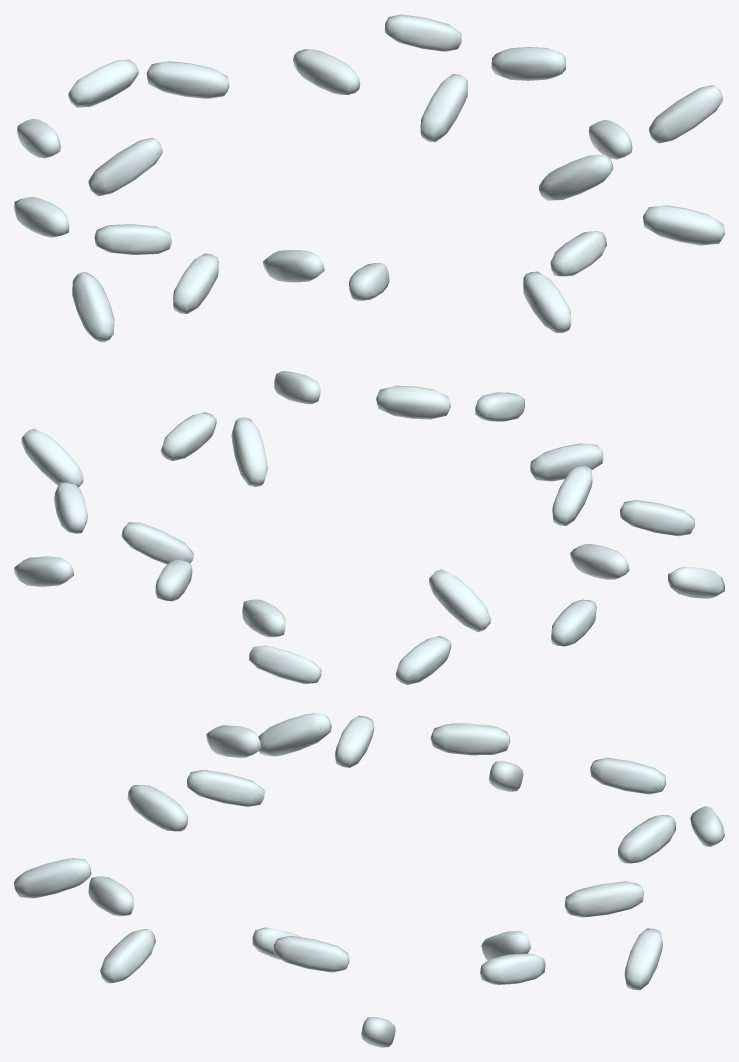
File: Donutsprinkle_A_01.fbx
3 renders of one model, top to bottom at view 1: azimuth 30°, elevation 25°; view 2: azimuth 150°, elevation 25°; view 3: azimuth 270°, elevation 25°, orthographic. The views are drawn at different scales.
Visible parts, largest first — view 1: Donutsprinkle_A_01_LOD0; view 2: Donutsprinkle_A_01_LOD0; view 3: Donutsprinkle_A_01_LOD0.
Boxes of the visible parts, x1,y1,x2,y2 form: Donutsprinkle_A_01_LOD0: [14, 14, 724, 342]; Donutsprinkle_A_01_LOD0: [14, 371, 724, 684]; Donutsprinkle_A_01_LOD0: [14, 713, 724, 1047].
Size of what is drawn, in the model's own units: 524 by 53.22 by 482.
